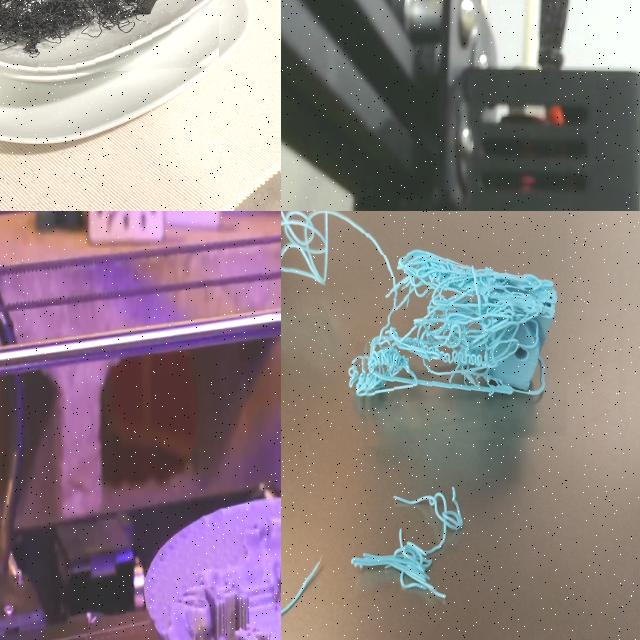spaghetti: (357, 222, 567, 446), (348, 484, 490, 616), (281, 556, 332, 640)
